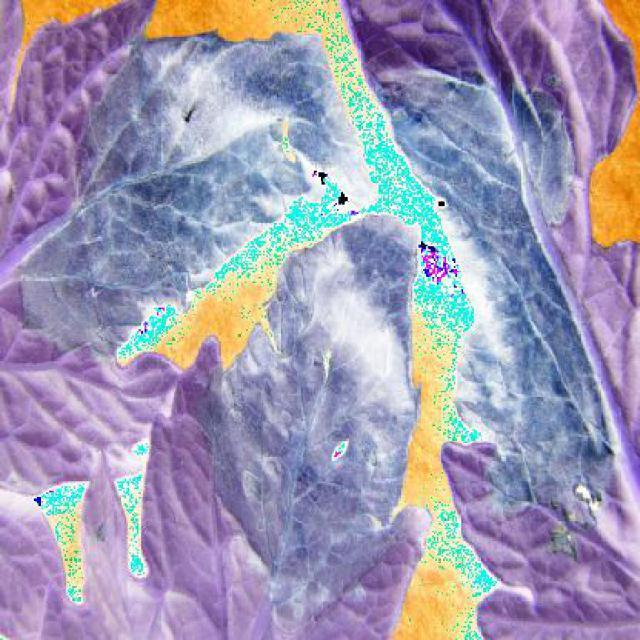Tomato mosaic virus leaf: (0, 1, 356, 491), (73, 211, 450, 637)
